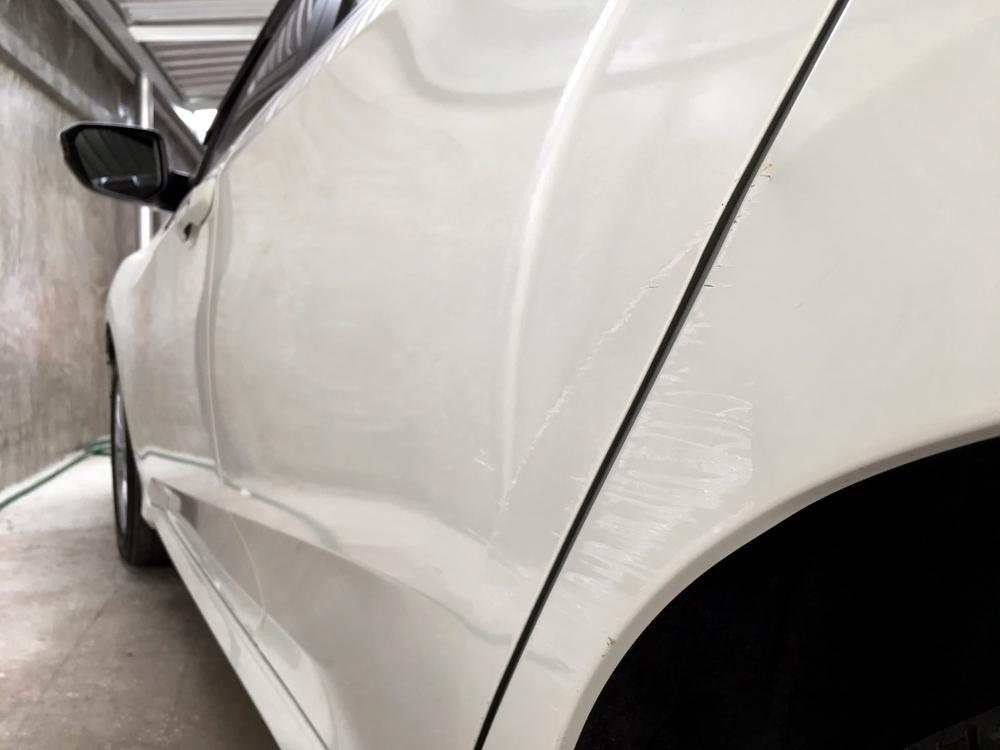scratch: (554, 270, 757, 607), (489, 226, 707, 525)
